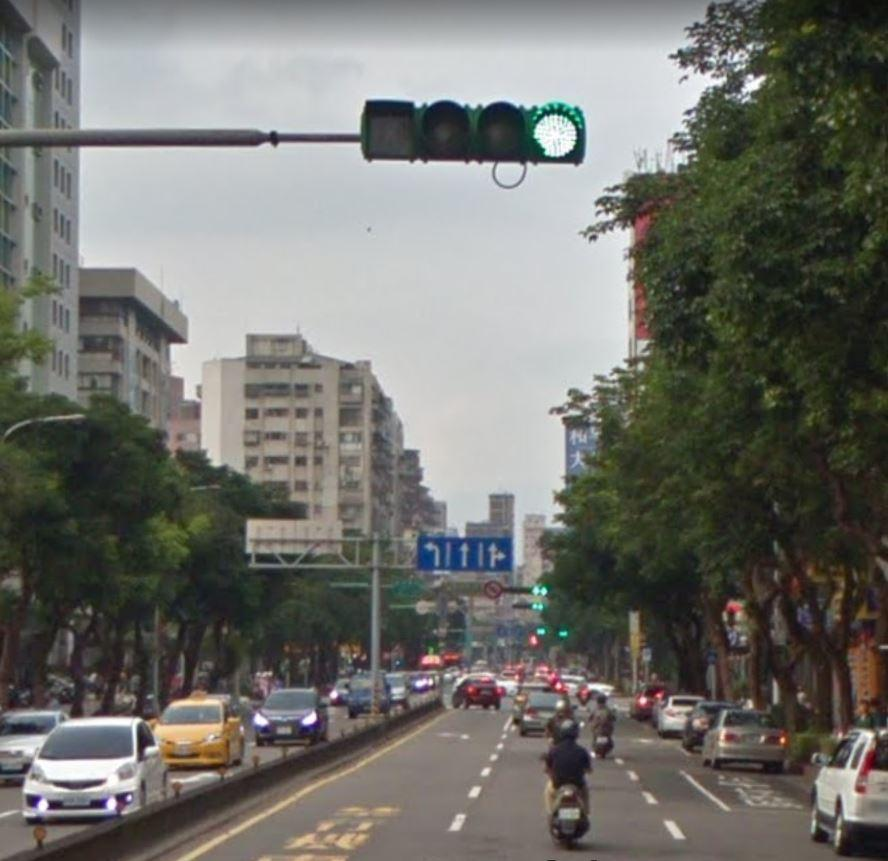car: (23, 708, 168, 826), (804, 726, 888, 861), (151, 688, 244, 775), (692, 702, 797, 772), (250, 680, 330, 748), (504, 678, 572, 743), (654, 682, 709, 749), (344, 668, 396, 722), (455, 670, 504, 717)
green_traffic_light: (356, 92, 588, 175)
motorcycle: (537, 751, 599, 840), (576, 686, 620, 762)
